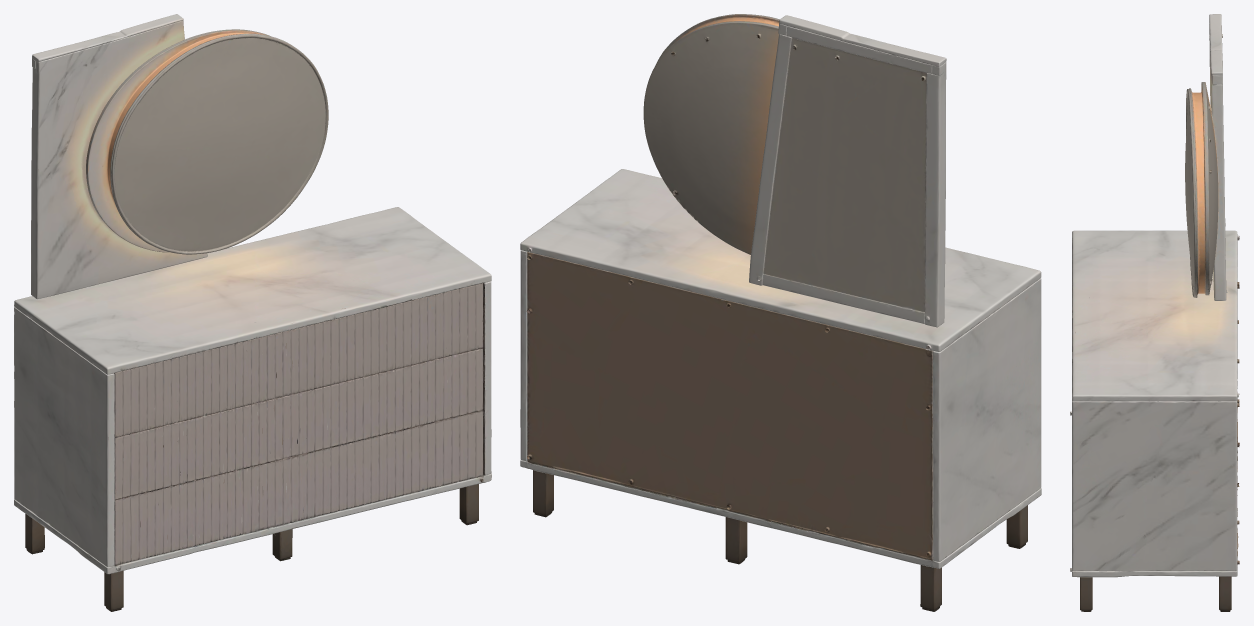
The model's file is No Name-02.glb.
The picture shows the model from 3 angles, left to right: view 1: azimuth 30°, elevation 25°; view 2: azimuth 150°, elevation 25°; view 3: azimuth 270°, elevation 25°; orthographic projection. The views are drawn at different scales.
Visible parts, largest first — view 1: tripo_node_c5165853-7dad-44e4-b225-d2ac581b01c5; view 2: tripo_node_c5165853-7dad-44e4-b225-d2ac581b01c5; view 3: tripo_node_c5165853-7dad-44e4-b225-d2ac581b01c5.
Boxes of the visible parts, <box> form: tripo_node_c5165853-7dad-44e4-b225-d2ac581b01c5: <box>14,14,491,611</box>; tripo_node_c5165853-7dad-44e4-b225-d2ac581b01c5: <box>520,14,1041,611</box>; tripo_node_c5165853-7dad-44e4-b225-d2ac581b01c5: <box>1070,14,1239,611</box>.
Size of the model in its own units: 0.782 by 0.9786 by 0.3389.
Materials: 1 (1 with a texture image).
